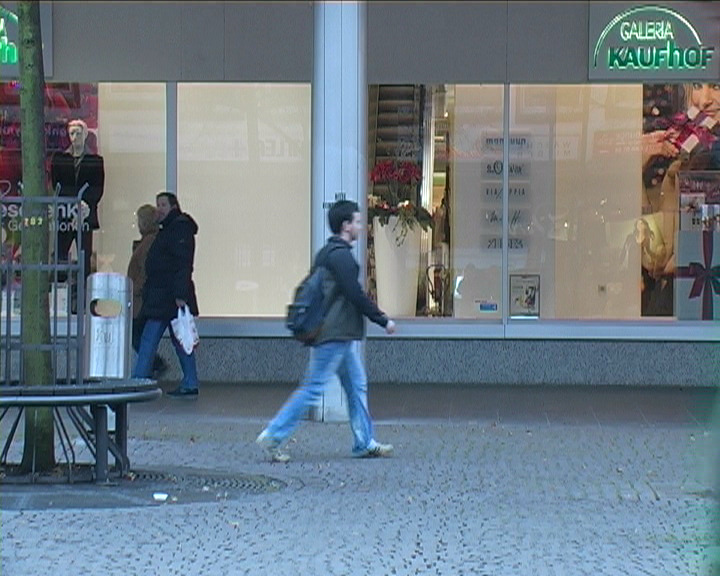deflection: (150, 191, 202, 275)
